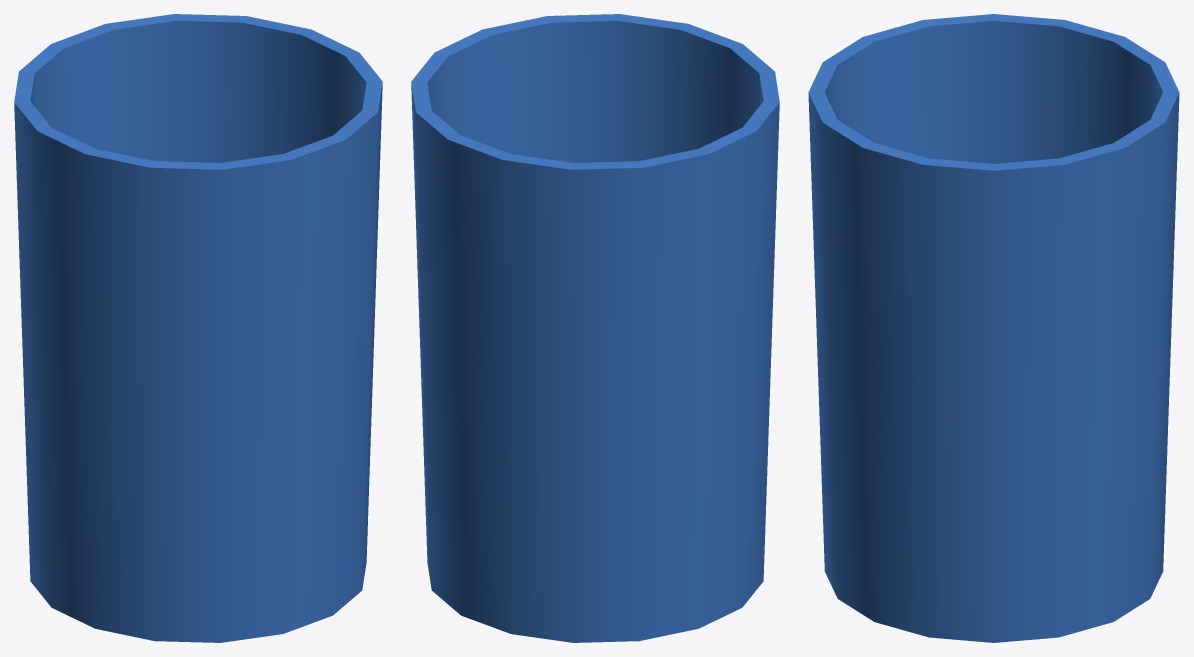
Rendered from PencilHolder.fbx.
3 views of the same model, side by side, from view 1: azimuth 30°, elevation 25°; view 2: azimuth 150°, elevation 25°; view 3: azimuth 270°, elevation 25° (orthographic).
Visible parts, largest first — view 1: Cylinder; view 2: Cylinder; view 3: Cylinder.
Boxes of the visible parts, <box> form: Cylinder: <box>14,14,382,642</box>; Cylinder: <box>411,14,779,642</box>; Cylinder: <box>808,14,1179,642</box>.
Bounding box in the file's own units: 0.3368 × 0.4798 × 0.3368.
